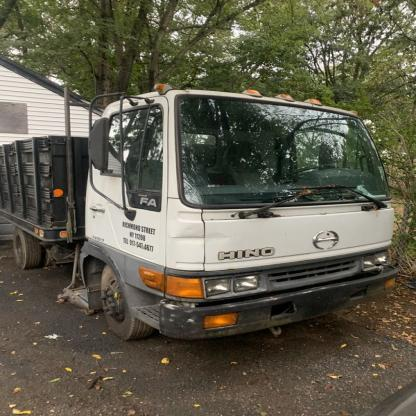dump_truck: (6, 76, 416, 349)
